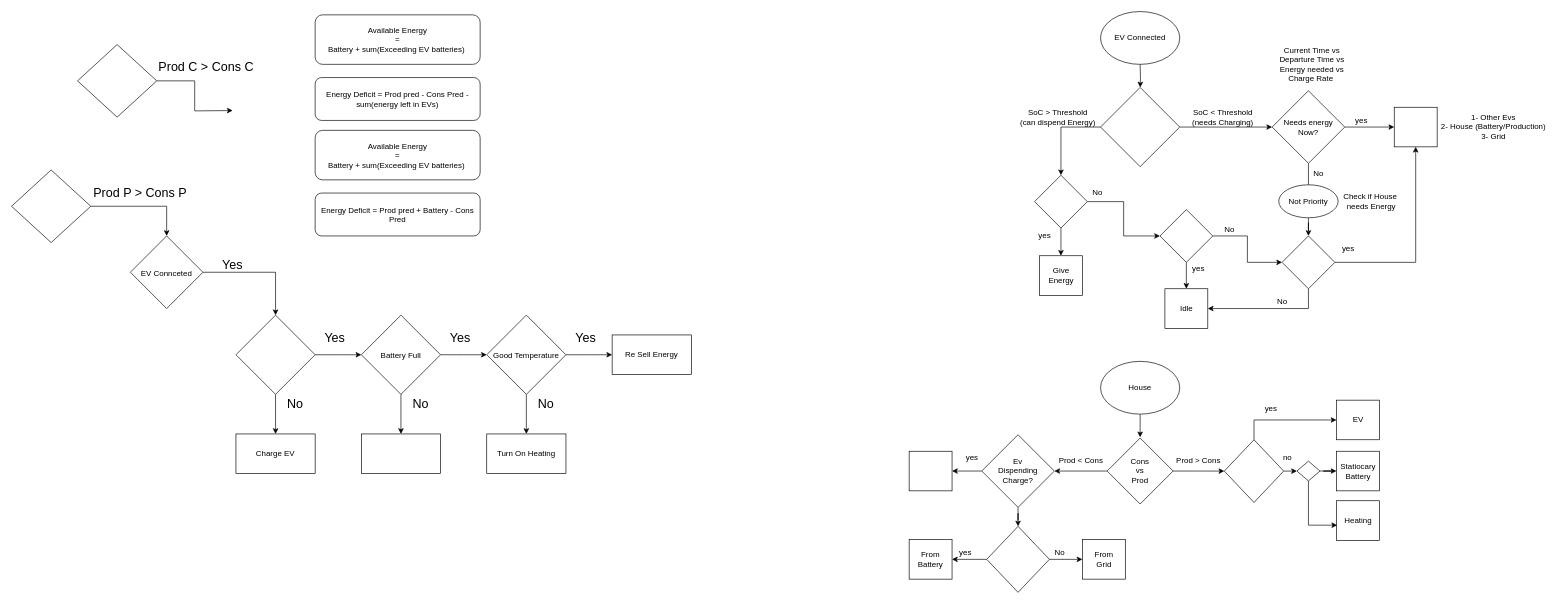
Some shapes in this 1561 by 604 pixel diagram are drawn without their labels. Each missing label, with the centre of its shape:
Battery can handle?: point (1017, 559)
Can Charge?: point (1308, 262)
Charge: point (1415, 127)
Charge Battery: point (401, 453)
Energy is needed?: point (1060, 201)
EV Full: point (275, 354)
EV wanting Charge: point (1254, 470)
From EV: point (930, 471)
Is Full?: point (1186, 235)
Prod C vs Cons C: point (117, 80)
Prod P vs Cons P: point (51, 206)
SOC vs Threshold: point (1140, 127)
